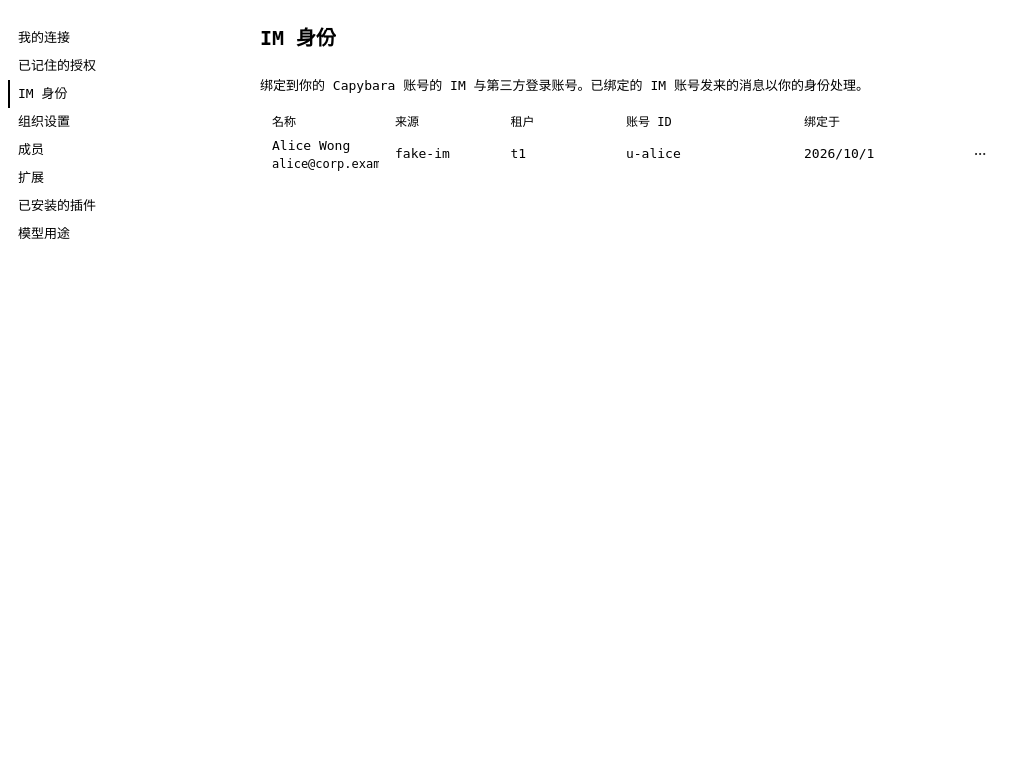
Test: 已绑定的 IM 身份（SettingsPage） › 列出身份（来源、租户）；解绑 → DELETE（zh）
Expected: the element that starts with "我的连接" is shown, 0,0 -> 1023,256
Expected: the text "fake-im" is shown, 395,146 -> 450,161
Step 1. Click the button named "行操作" → (980, 154), box 968,142 -> 992,166
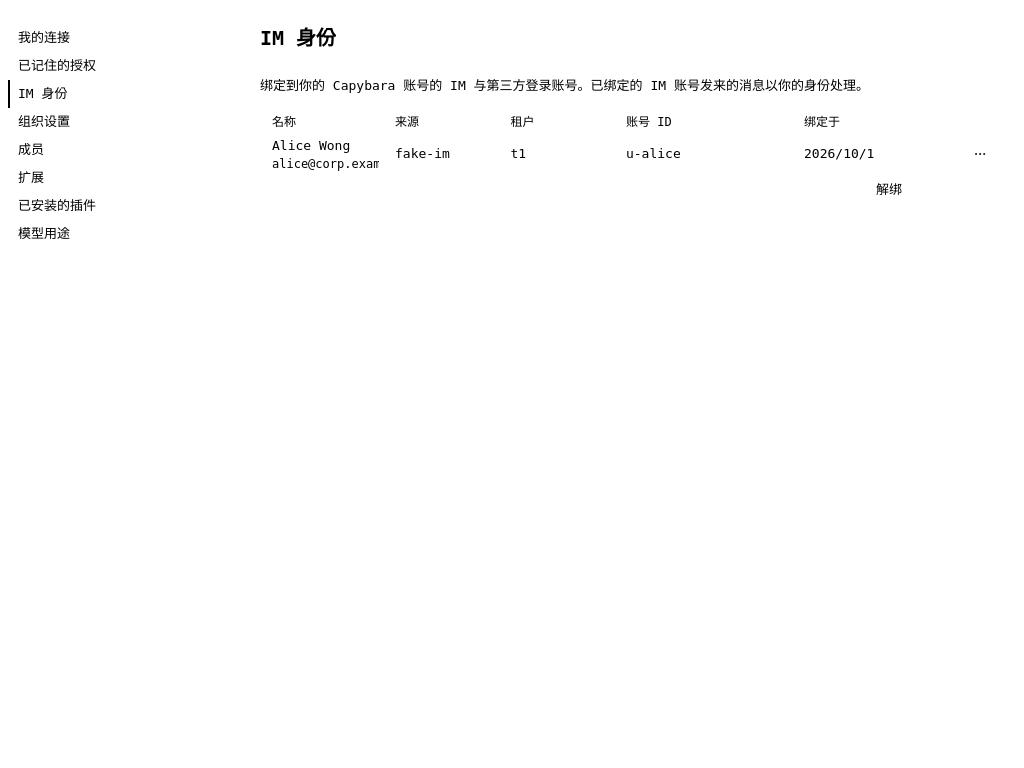
Step 2. Click the menu item "解绑" → (889, 190), box 876,182 -> 902,197
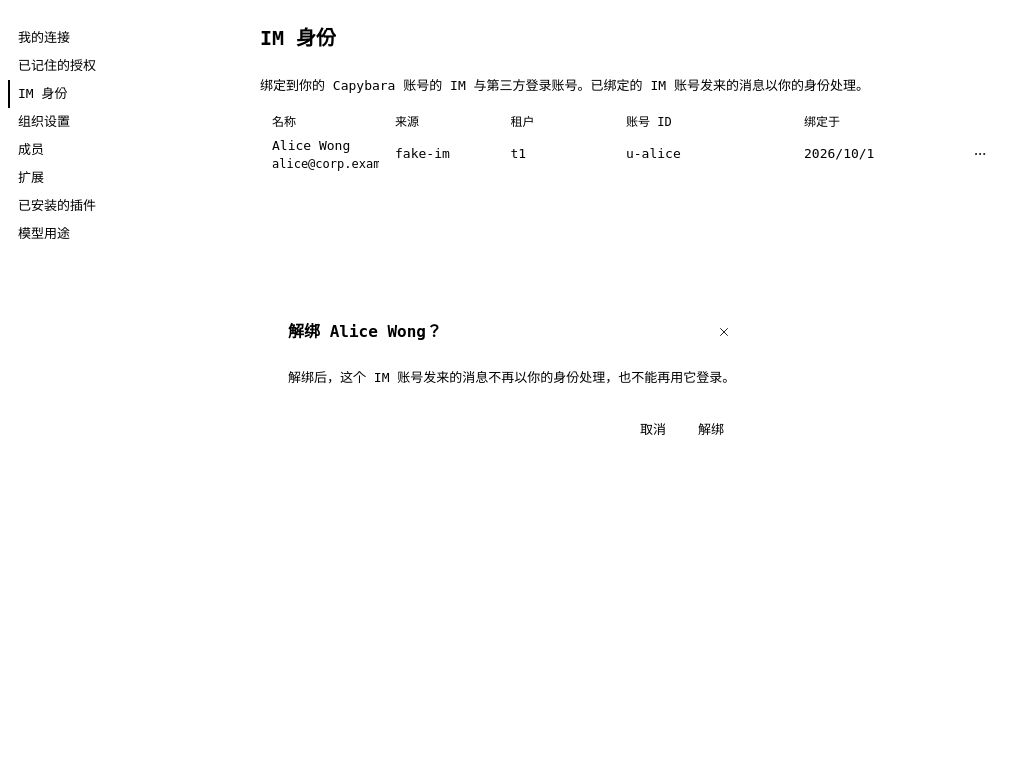
Step 3. Click the button "解绑" → (711, 430), box 686,416 -> 736,444
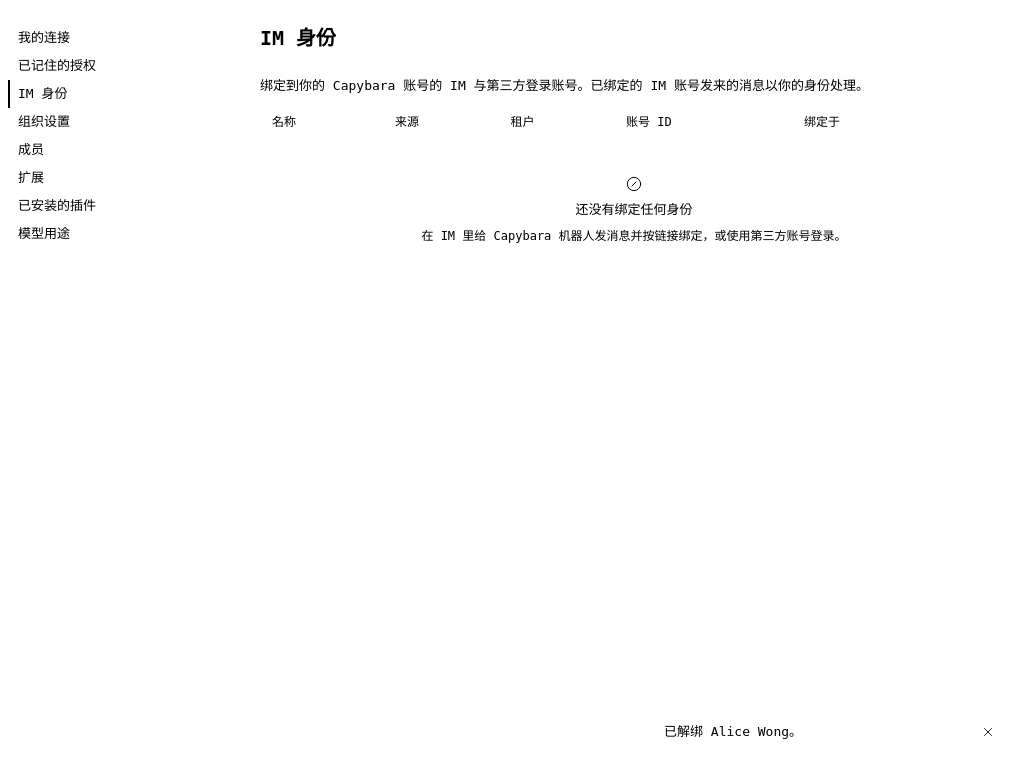
Result: the text "还没有绑定任何身份" is shown at 576,200 -> 692,220
